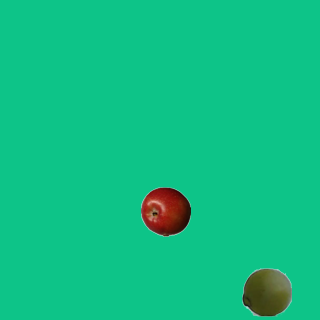Apple Braeburn: (140, 186, 190, 236)
Grape White 4: (241, 266, 291, 316)
